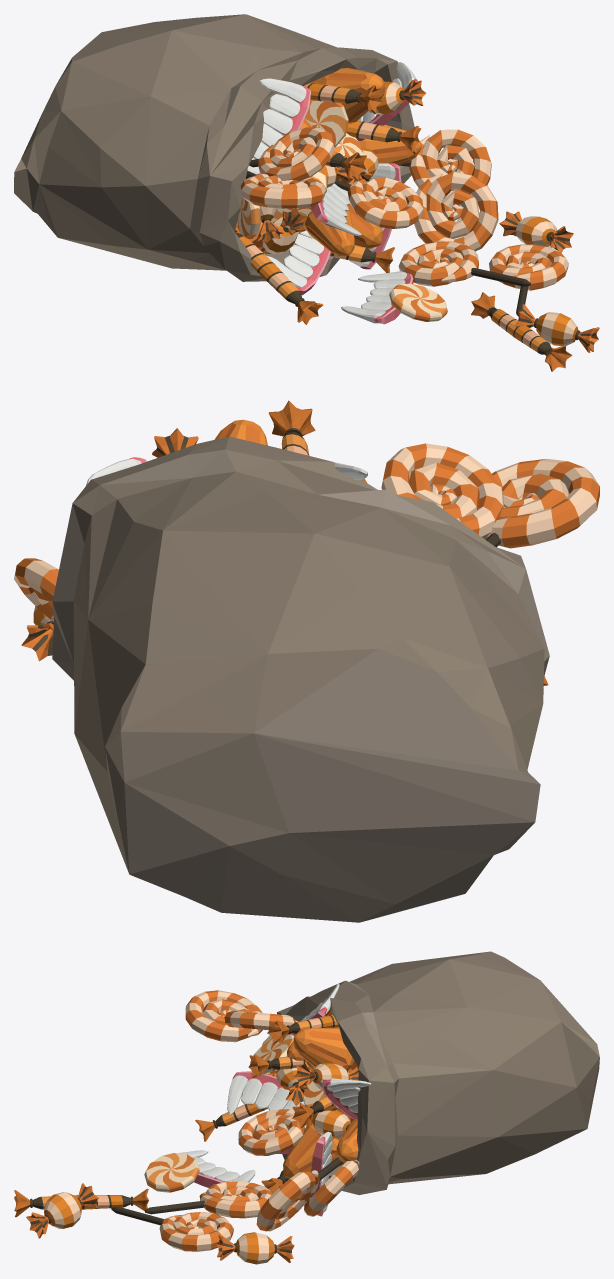
The model's file is WF_LP_HT_Props_CandyBag.002.fbx.
3 renders of one model, top to bottom at view 1: azimuth 30°, elevation 25°; view 2: azimuth 150°, elevation 25°; view 3: azimuth 270°, elevation 25°, orthographic. The views are drawn at different scales.
Parts seen in each view (by area): view 1: WF_LP_HT_Props_SugarBag.002; view 2: WF_LP_HT_Props_SugarBag.002; view 3: WF_LP_HT_Props_SugarBag.002.
Part boxes in pixels (box(x1,y1,x2,y2)): WF_LP_HT_Props_SugarBag.002: box(14, 14, 599, 371); WF_LP_HT_Props_SugarBag.002: box(14, 400, 599, 922); WF_LP_HT_Props_SugarBag.002: box(14, 951, 599, 1264).
Bounding box in the file's own units: 1.03 × 0.5066 × 1.33.
